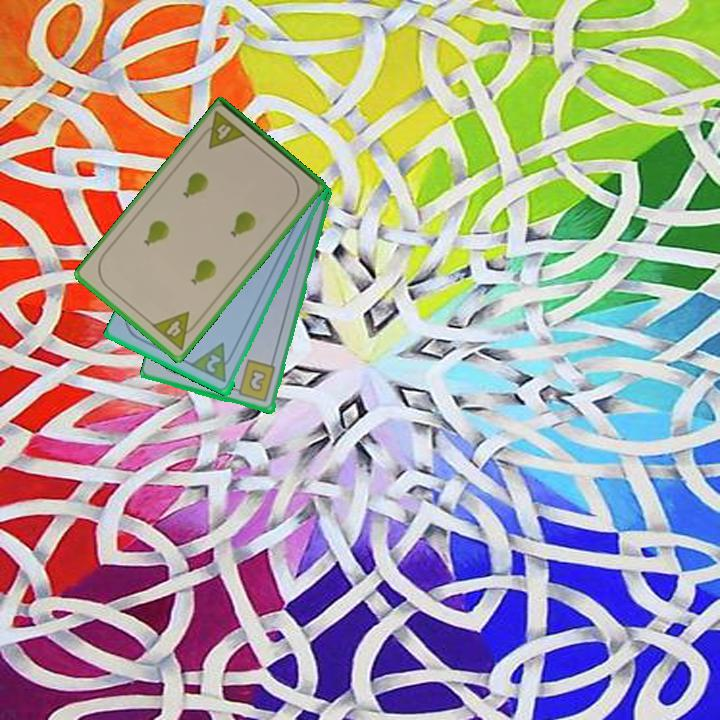2b: (229, 357, 278, 405)
2p: (202, 351, 224, 376)
4p: (148, 308, 203, 353), (195, 108, 250, 152)
